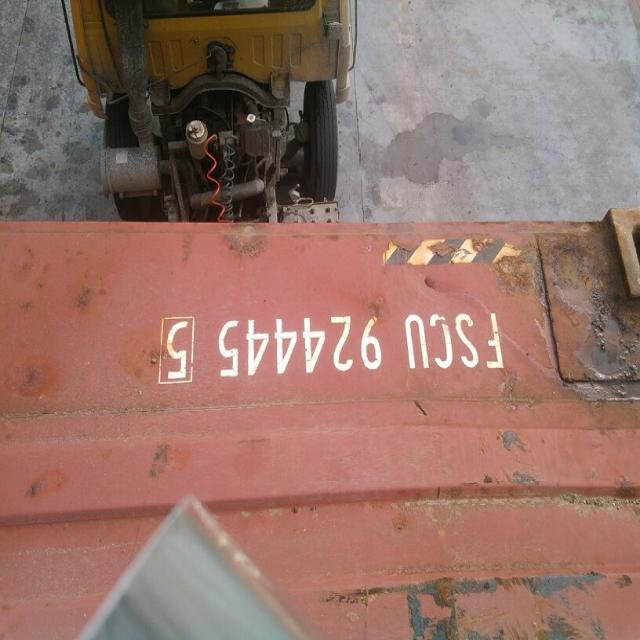rust: (314, 562, 637, 640), (539, 228, 640, 391), (13, 242, 113, 325), (114, 336, 182, 388), (8, 466, 58, 516), (136, 434, 183, 487), (10, 357, 65, 401), (489, 253, 536, 301), (221, 226, 274, 266)
